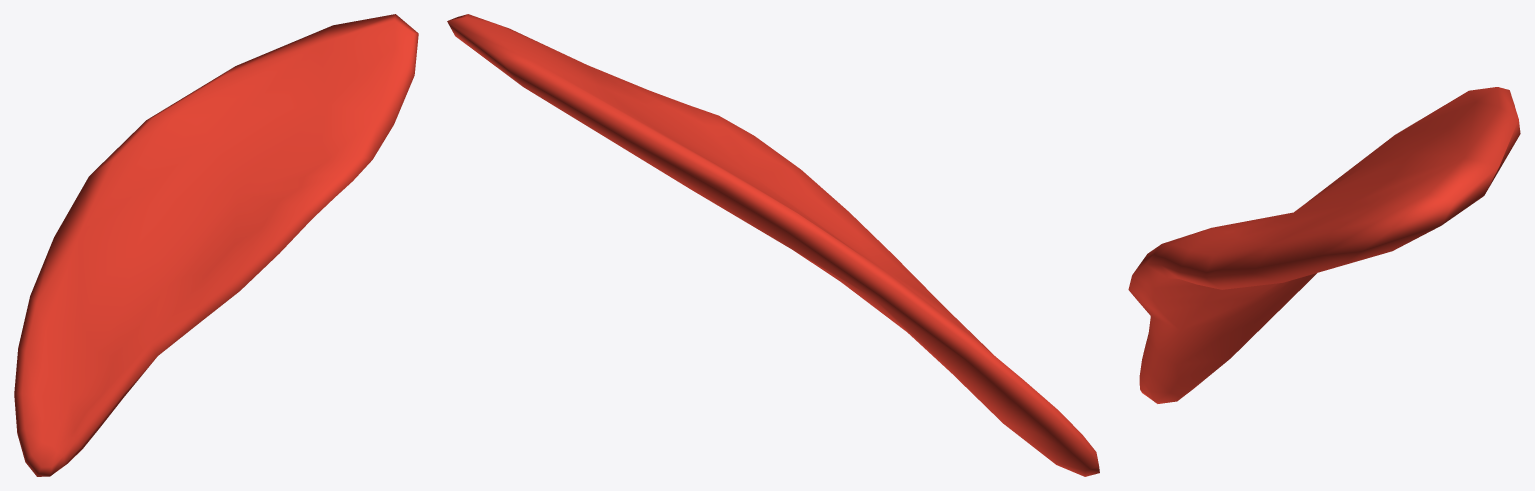
The model's file is Dorsal_interossei_1st_metacarpal_right.glb.
3 renders of one model, left to right at view 1: azimuth 30°, elevation 25°; view 2: azimuth 150°, elevation 25°; view 3: azimuth 270°, elevation 25°, orthographic. The views are drawn at different scales.
Visible parts, largest first — view 1: Dorsal_interosseus_muscles_of_1st_metacarpal_bone.r_Generate; view 2: Dorsal_interosseus_muscles_of_1st_metacarpal_bone.r_Generate; view 3: Dorsal_interosseus_muscles_of_1st_metacarpal_bone.r_Generate.
Part boxes in pixels (<box>): Dorsal_interosseus_muscles_of_1st_metacarpal_bone.r_Generate: <box>14,14,418,476</box>; Dorsal_interosseus_muscles_of_1st_metacarpal_bone.r_Generate: <box>447,14,1099,476</box>; Dorsal_interosseus_muscles_of_1st_metacarpal_bone.r_Generate: <box>1128,87,1520,403</box>.
Size of the model in its own units: 0.00973 by 0.00633 by 0.00369.
